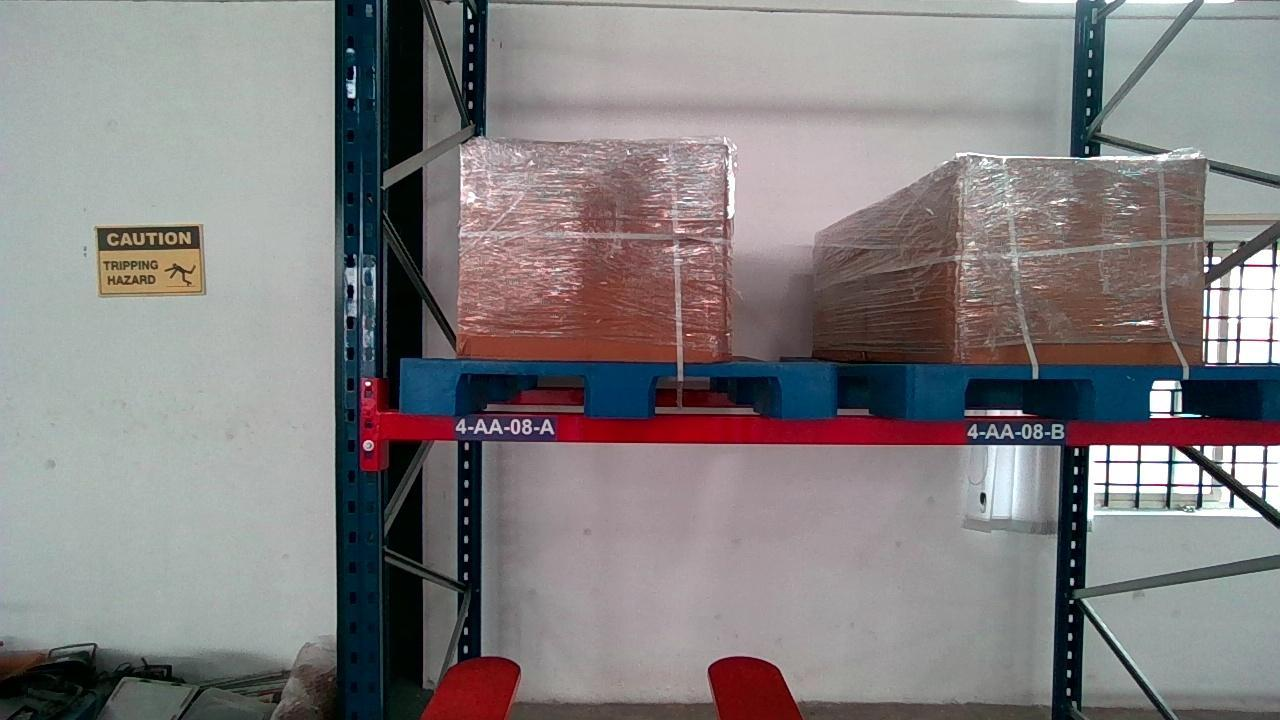h_rack: (377, 410, 1279, 444)
small_pallet: (398, 359, 836, 419), (911, 367, 1279, 420)
